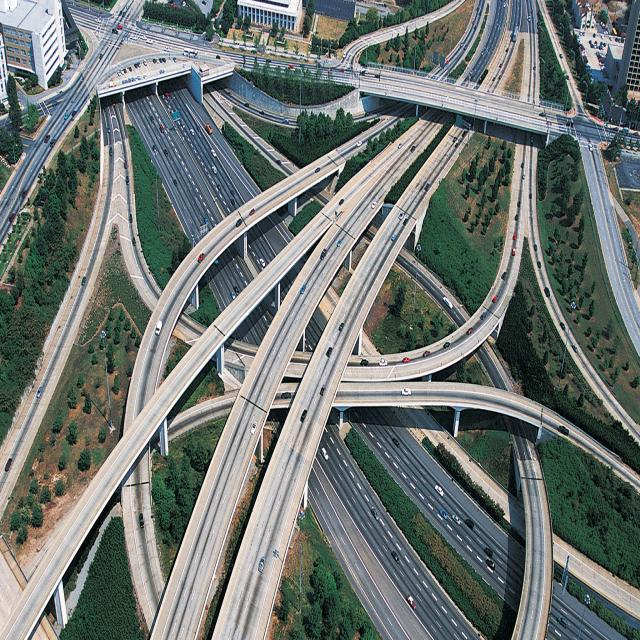Clean road: (0, 109, 640, 640)
